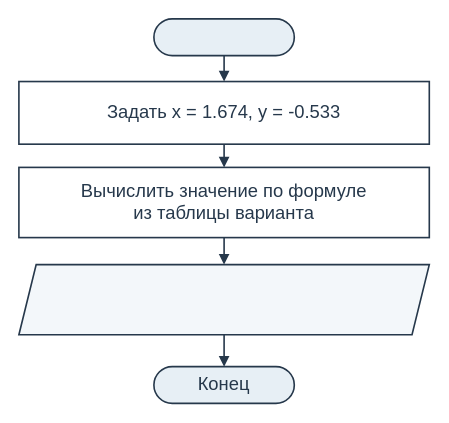
This 449x423 diagram has some shape labels left out. Here are the shapes that lost their labels. From the top down, the box of each, then its label:
(153, 18, 295, 56): Начало
(18, 263, 430, 335): Округлить значение Вывести результат и целую часть
